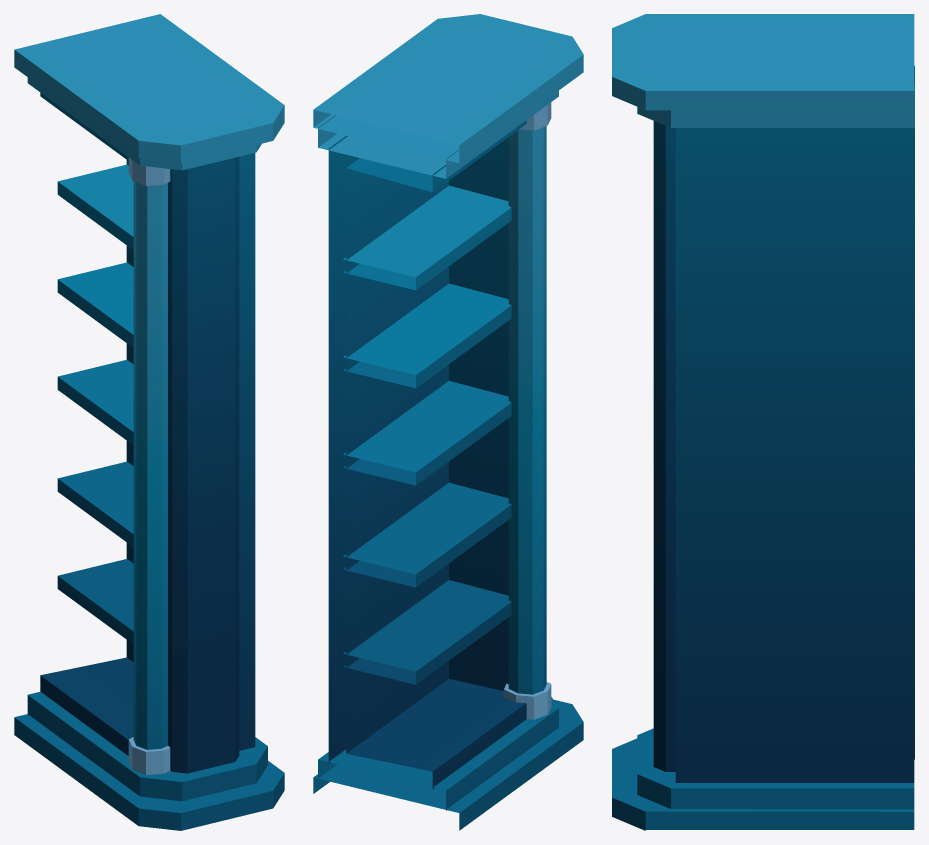
Rendered from Bookshelf 02 Corner 1.fbx.
3 views of the same model, side by side, from view 1: azimuth 30°, elevation 25°; view 2: azimuth 150°, elevation 25°; view 3: azimuth 270°, elevation 25° (orthographic). The views are drawn at different scales.
Parts seen in each view (by area): view 1: Bookshelf 02 End.001; view 2: Bookshelf 02 End.001; view 3: Bookshelf 02 End.001.
Boxes of the visible parts, x1,y1,x2,y2 form: Bookshelf 02 End.001: (14, 14, 284, 830); Bookshelf 02 End.001: (313, 14, 583, 830); Bookshelf 02 End.001: (612, 14, 914, 830).
Size of the model in its own units: 59.71 by 267 by 99.18.
